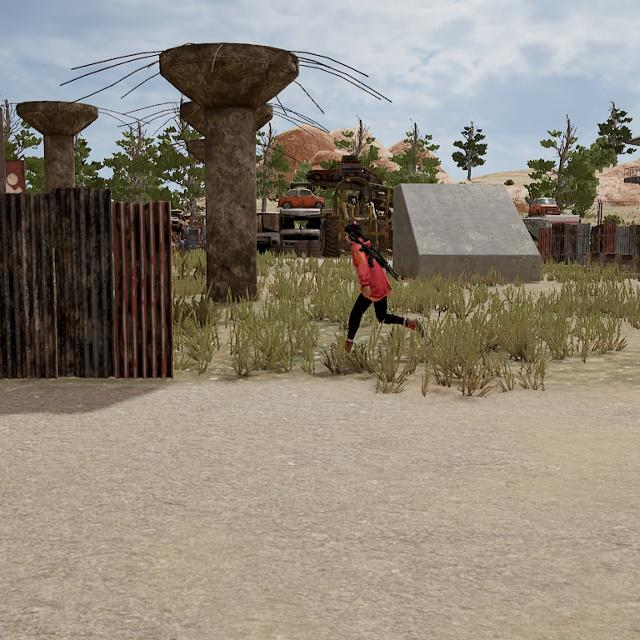head: (341, 221, 365, 244)
people: (335, 215, 404, 354)
